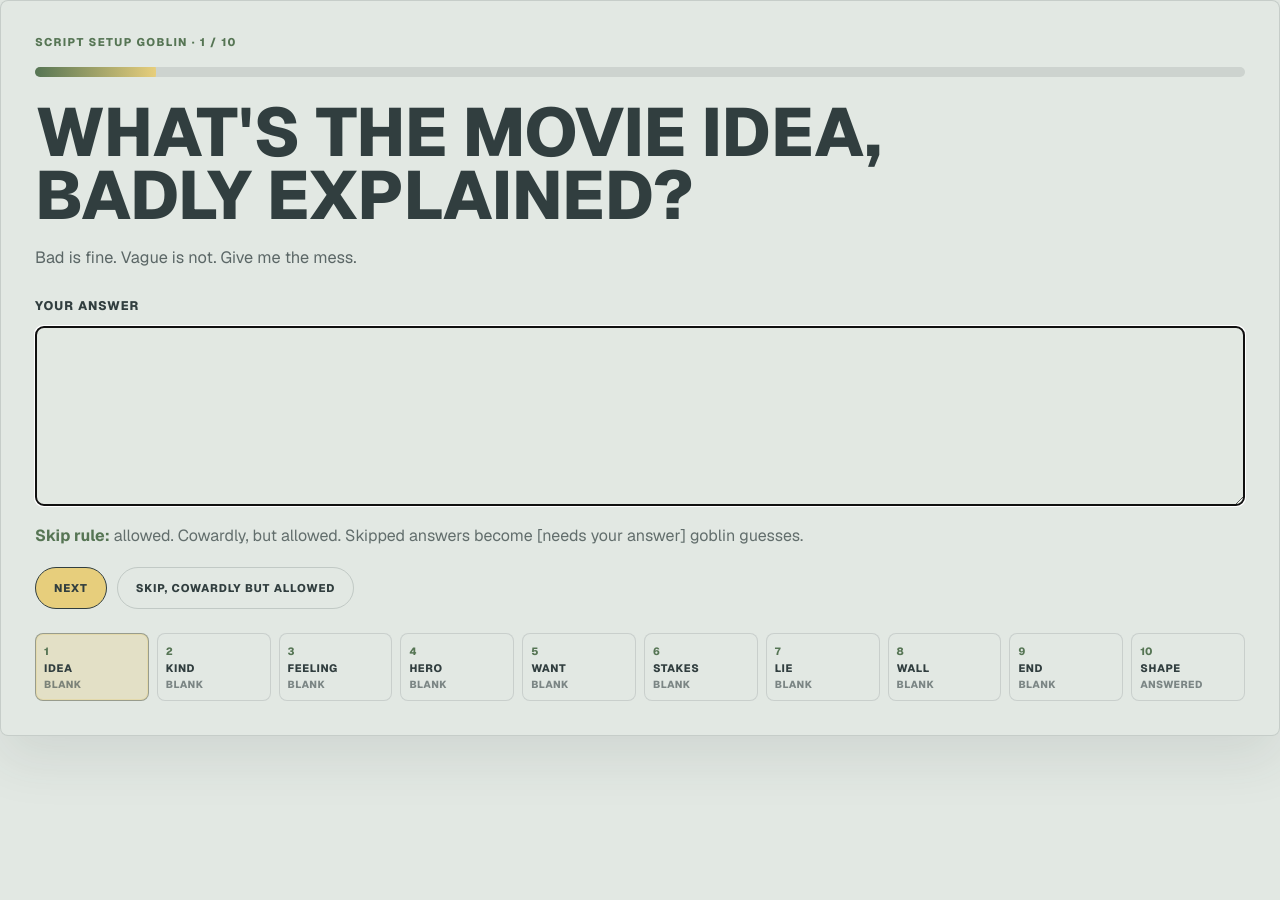
Scenario: GuidedSetupClient › lets the writer go back and revise the previous answer
Replace the text in the text box labelled "Your answer" with "A one armed man dreams of playing professional baseball." at x=640, y=416, box [35,326,1245,506]
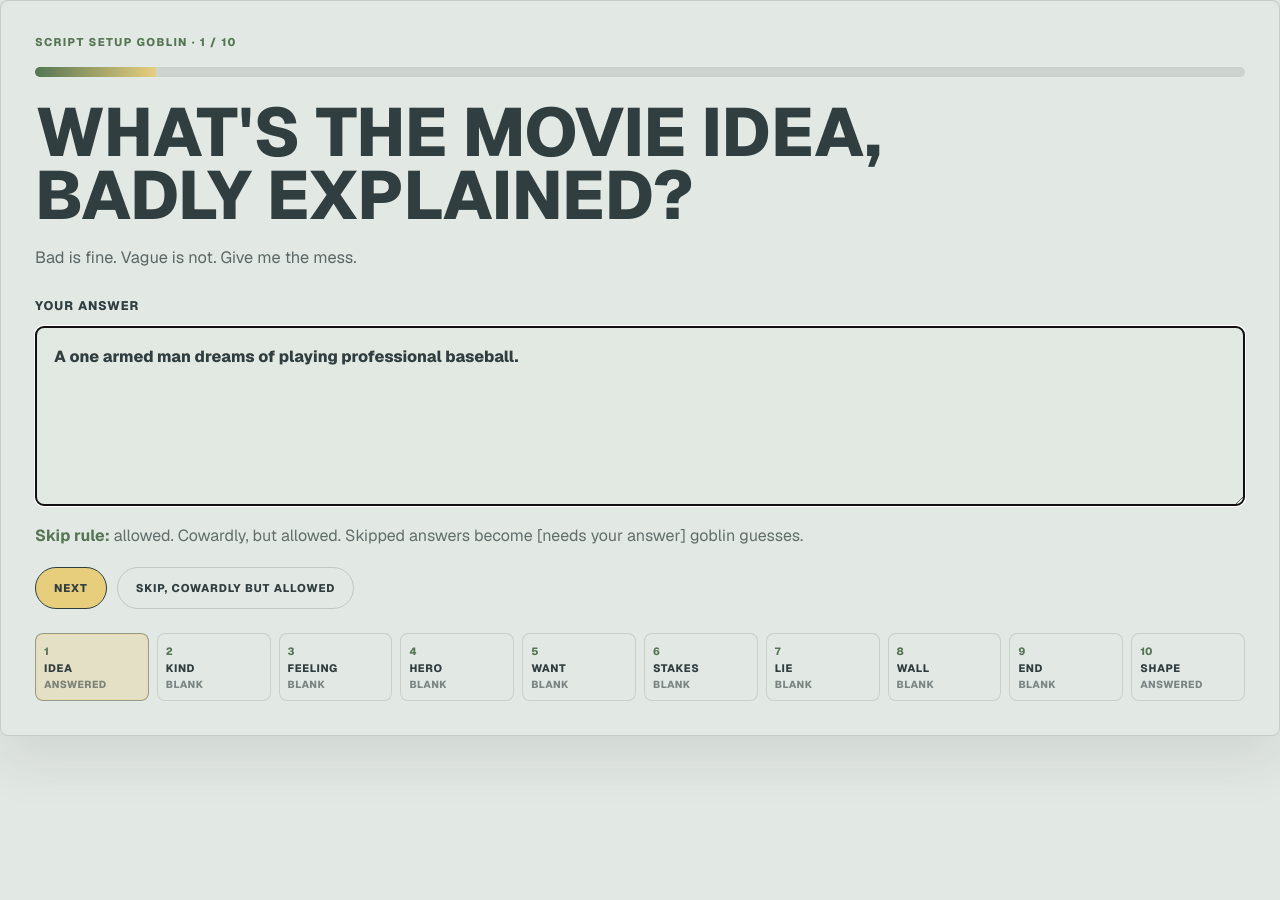
Click the button "Next" at x=71, y=588, box [35,567,107,609]
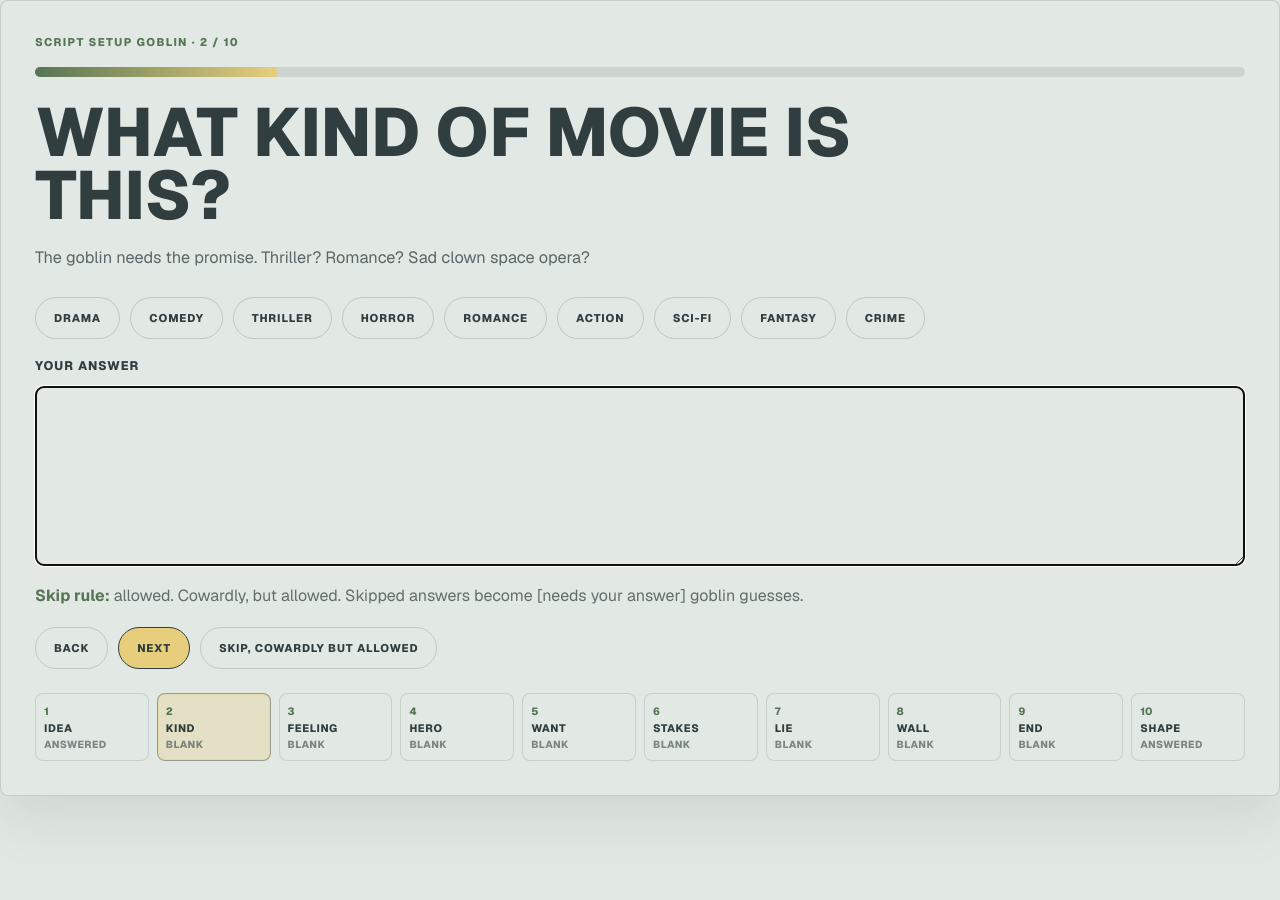
Click the button "Back" at x=72, y=648, box [35,627,108,669]
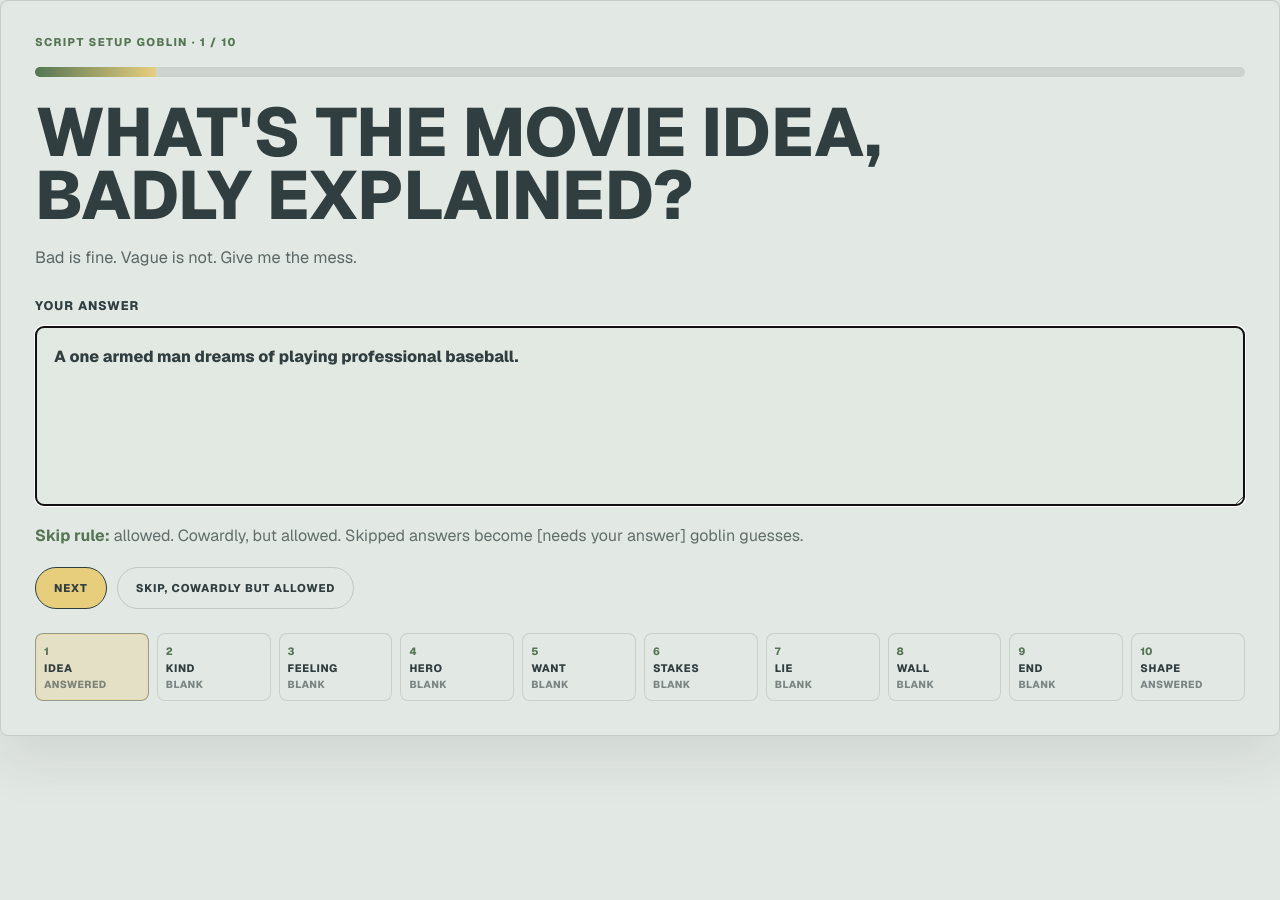
Expected: the heading "What's the movie idea, badly explained?" is shown, [35,101,915,228]
Expected: the text box labelled "Your answer" holds "A one armed man dreams of playing professional baseball."
Replace the text in the text box labelled "Your answer" with "A one armed pitcher gets one last shot at the majors." at x=640, y=416, box [35,326,1245,506]
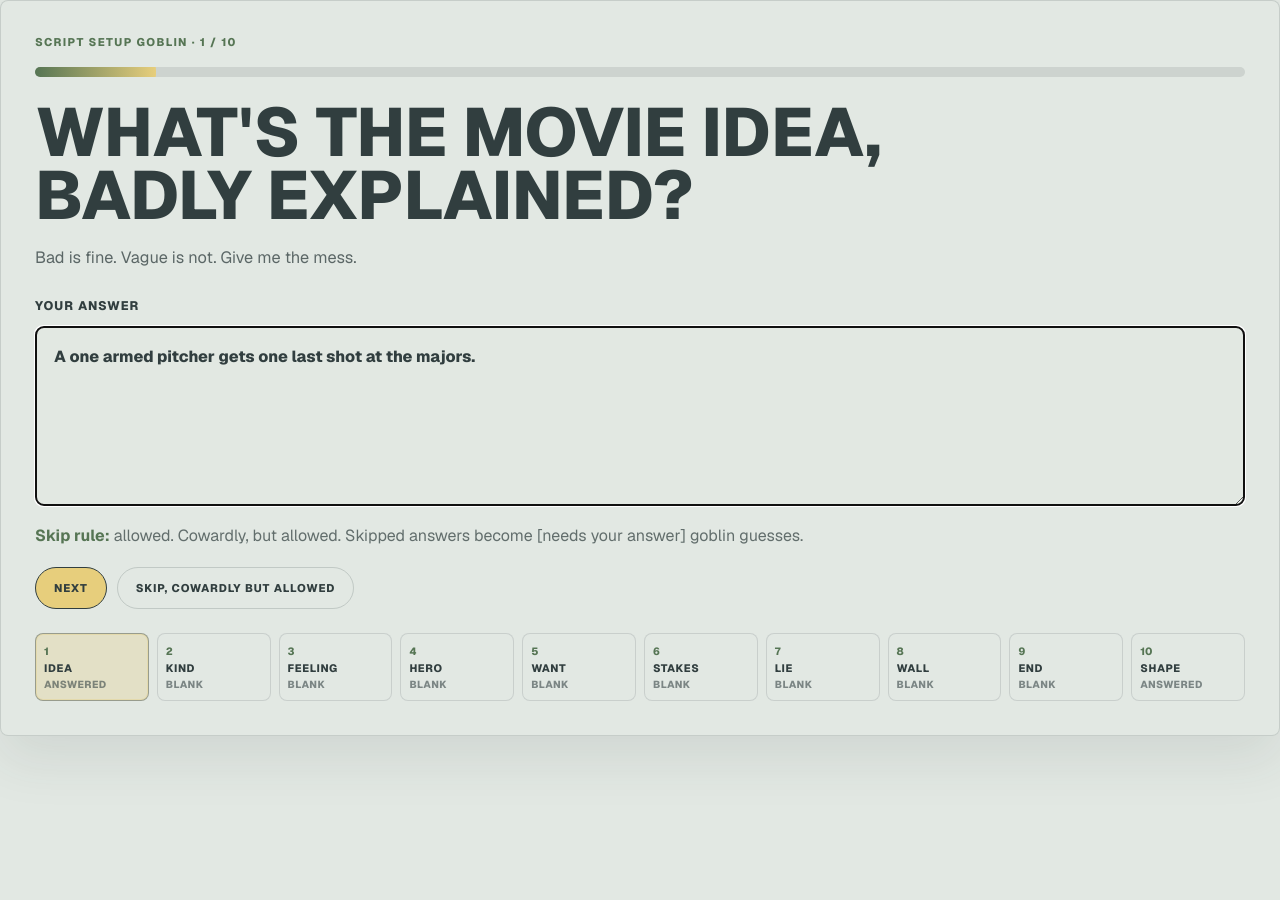
Click the button "Next" at x=71, y=588, box [35,567,107,609]
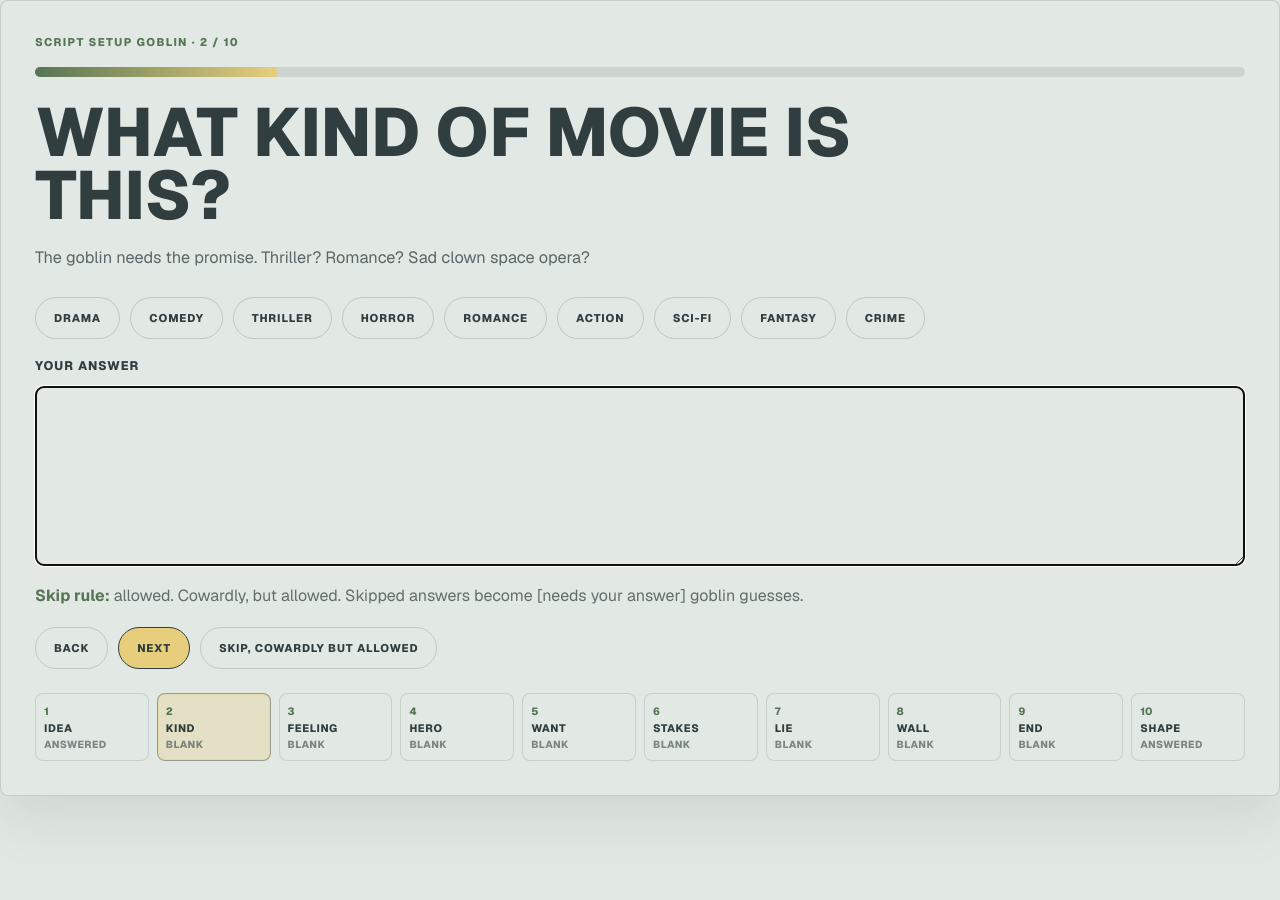
Click the button "Back" at x=72, y=648, box [35,627,108,669]
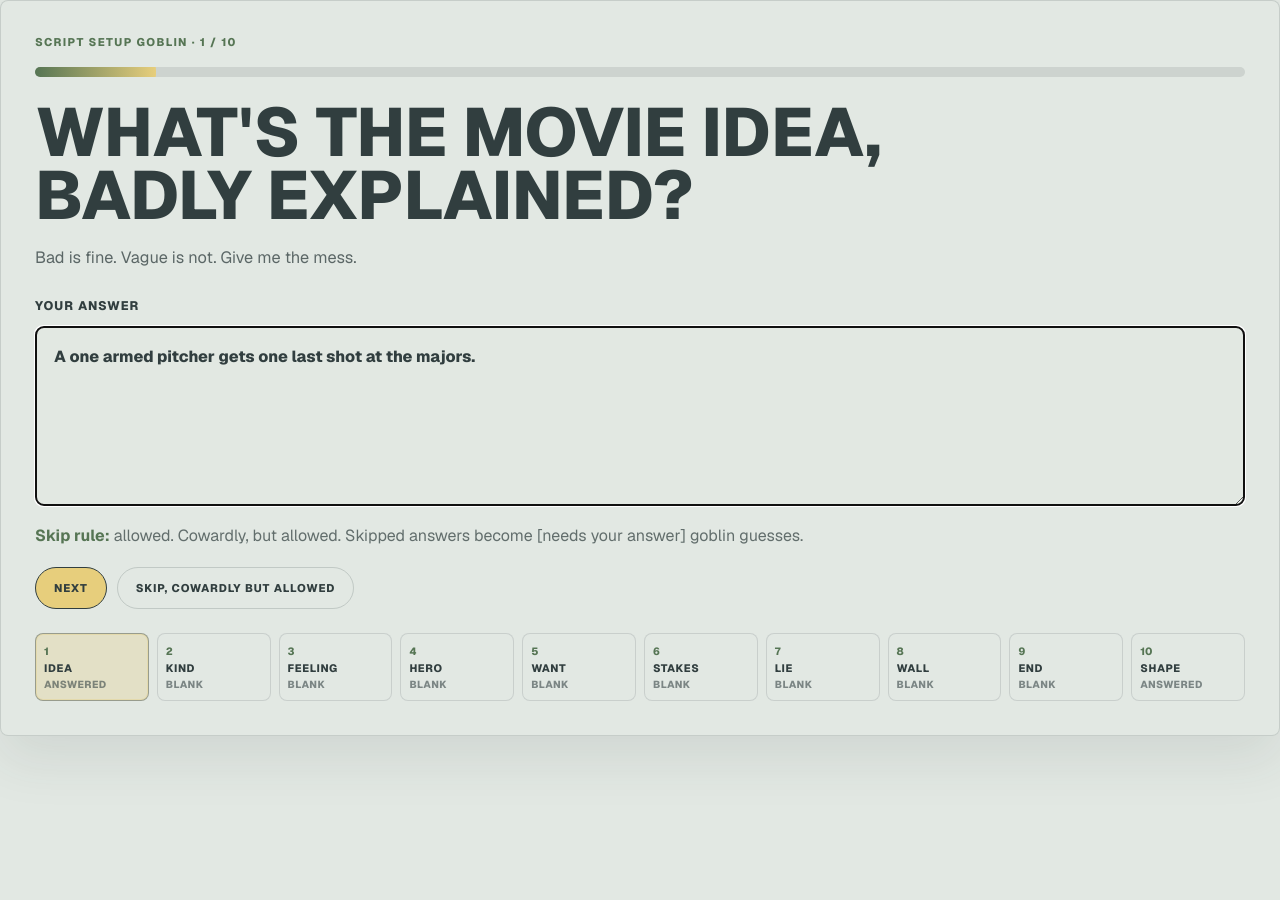
Expected: the text box labelled "Your answer" holds "A one armed pitcher gets one last shot at the majors.", [35,326,1245,506]
